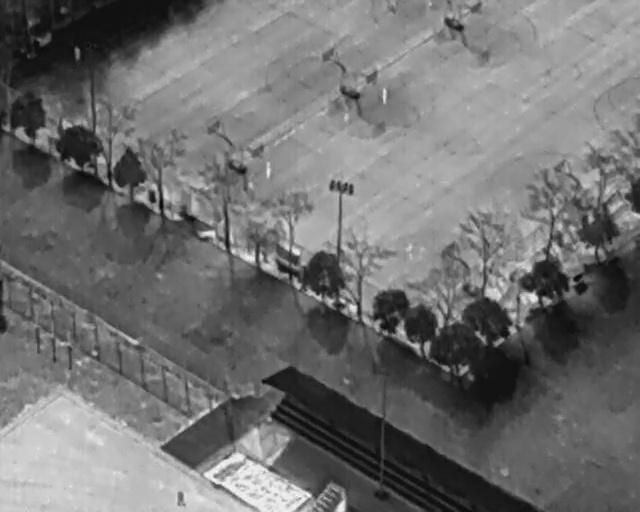Person: (263, 158, 273, 180), (405, 240, 414, 263), (379, 86, 389, 106), (72, 46, 82, 63)
